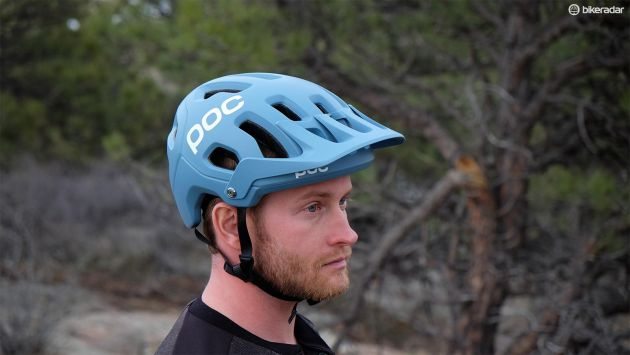helmet: (167, 72, 406, 194)
